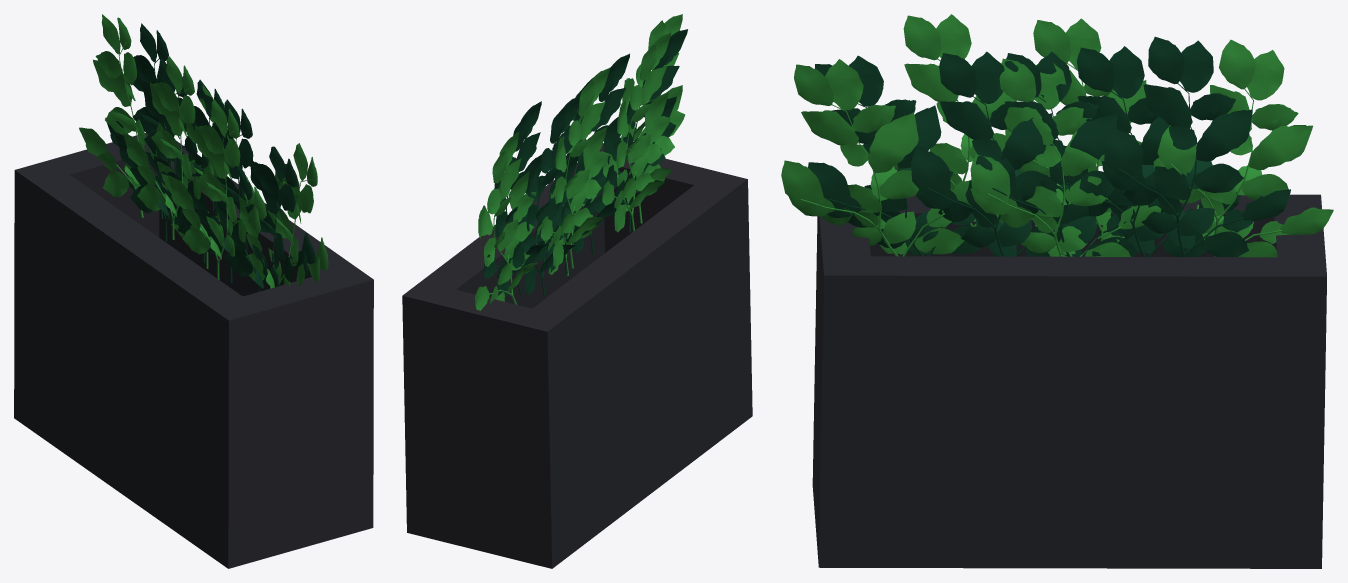
File: Bulmen_vase_Mit-Blumen.glb
3 renders of one model, left to right at view 1: azimuth 30°, elevation 25°; view 2: azimuth 150°, elevation 25°; view 3: azimuth 270°, elevation 25°, orthographic. The views are drawn at different scales.
Parts seen in each view (by area): view 1: Cube, twig.006, twig.005, twig.012, twig.009, twig.011, twig.003, twig.002, twig.010, twig.004, twig.007; view 2: Cube, twig.006, twig.005, twig.012, twig.003, twig.010, twig.002, twig.011, twig.009, twig.004, twig.007; view 3: Cube, twig.010, twig.011, twig.002, twig.007, twig.012, twig.003, twig.004, twig.009, twig.006, twig.005.
Part boxes in pixels (x1,y1,x2,y2): Cube: (14,133,373,568); twig.006: (168,99,266,279); twig.005: (123,56,217,239); twig.012: (79,14,166,217); twig.009: (217,146,315,291); twig.011: (239,143,328,288); twig.003: (115,58,208,241); twig.002: (181,99,272,282); twig.010: (105,23,197,218); twig.004: (153,79,252,263); twig.007: (157,85,254,268); Cube: (402,143,752,568); twig.006: (602,32,671,232); twig.005: (540,67,609,268); twig.012: (475,132,538,310); twig.003: (512,96,580,296); twig.010: (483,101,547,296); twig.002: (561,53,629,254); twig.011: (603,14,685,223); twig.009: (605,29,687,232); twig.004: (535,77,597,273); twig.007: (536,94,598,275); Cube: (812,194,1326,568); twig.010: (1101,36,1290,256); twig.011: (781,59,972,256); twig.002: (911,51,1088,256); twig.007: (970,58,1161,256); twig.012: (1153,39,1333,257); twig.003: (1049,46,1240,256); twig.004: (976,51,1163,256); twig.009: (808,55,979,256); twig.006: (893,14,1032,226); twig.005: (1005,18,1146,241).
Size of the model in its own units: 4.71 by 12.3 by 12.28.
